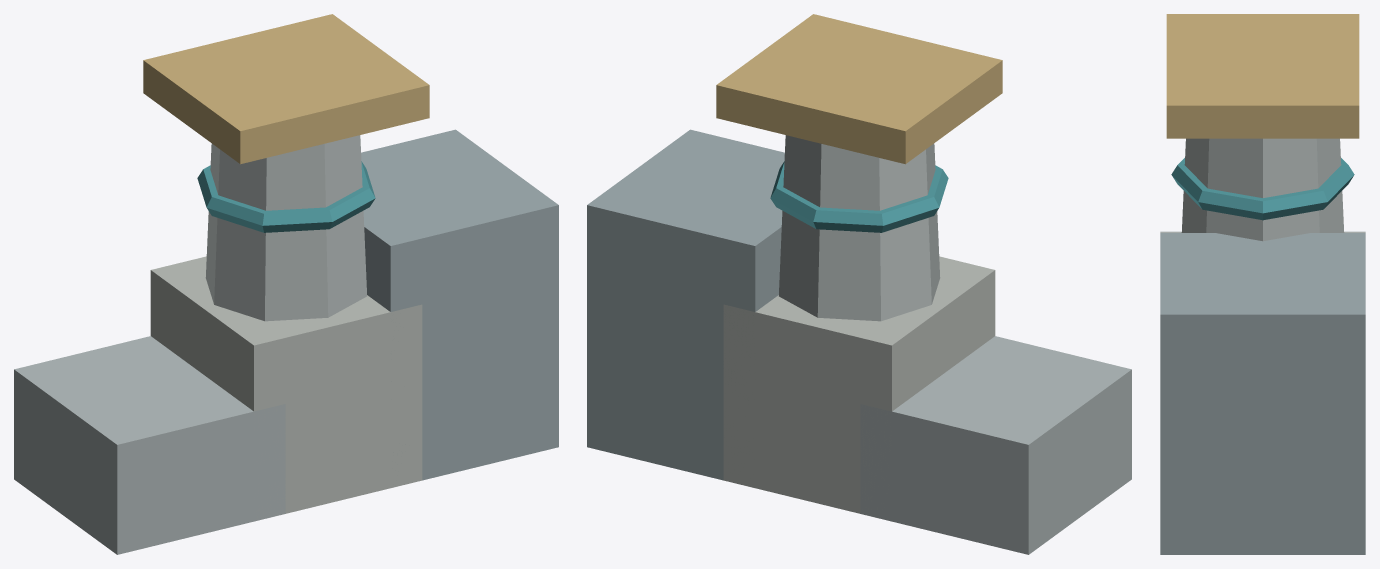
The model's file is marine-ruin.glb.
3 views of the same model, side by side, from view 1: azimuth 30°, elevation 25°; view 2: azimuth 150°, elevation 25°; view 3: azimuth 270°, elevation 25° (orthographic).
Visible parts, largest first — view 1: marine-ruin; view 2: marine-ruin; view 3: marine-ruin.
Part boxes in pixels (x1,y1,x2,y2): marine-ruin: [14, 14, 558, 554]; marine-ruin: [587, 14, 1131, 554]; marine-ruin: [1160, 14, 1365, 554].
Bounding box in the file's own units: 2.1 × 1.78 × 0.85.
